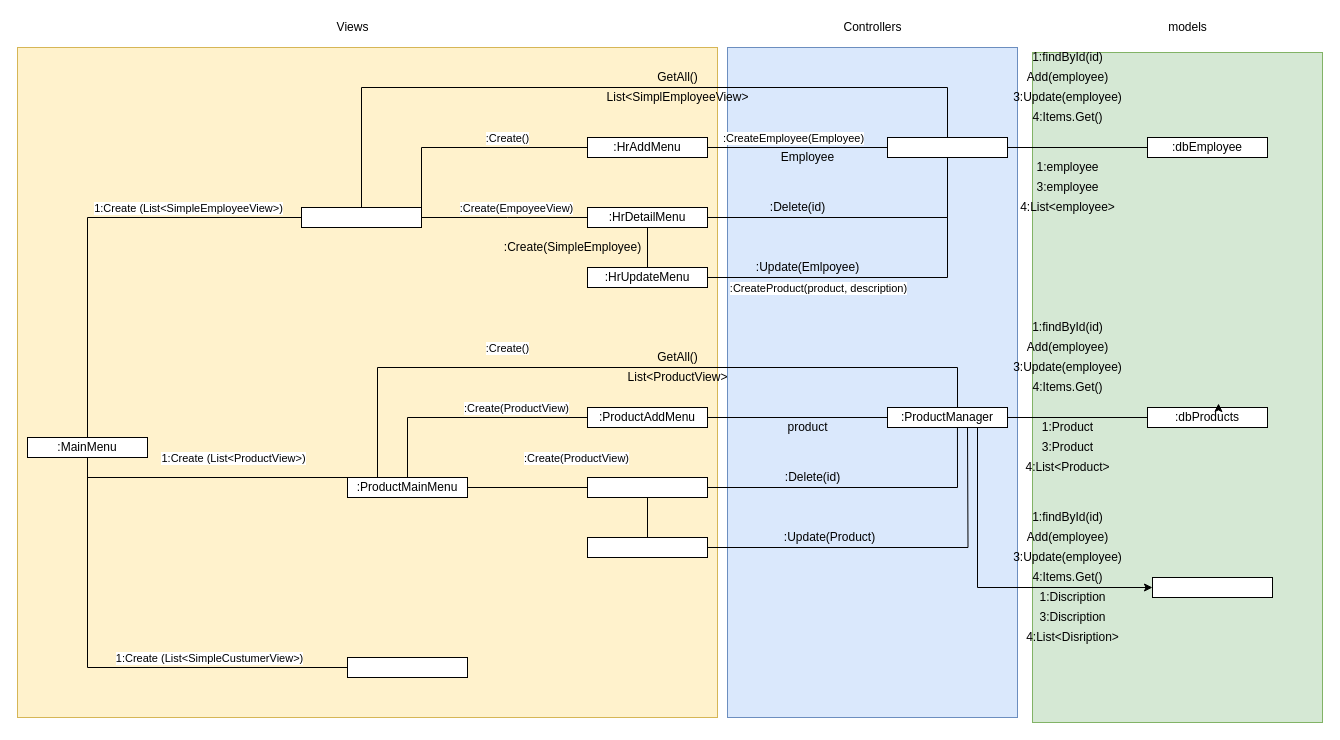
This 1340x740 diagram has some shape labels left out. The shapes that lost their labels are listed below. From the top down, each one's box as (x1, y1, x2, y2) in pixels, then its label:
(886, 136, 1008, 158): :HrManager
(300, 206, 422, 228): :HrMainMenu
(586, 476, 708, 498): :ProductDetailMenu
(586, 536, 708, 558): :ProductUpdateMenu
(1152, 576, 1272, 598): :dbDescription
(346, 656, 468, 678): :CustomerMainMenu
